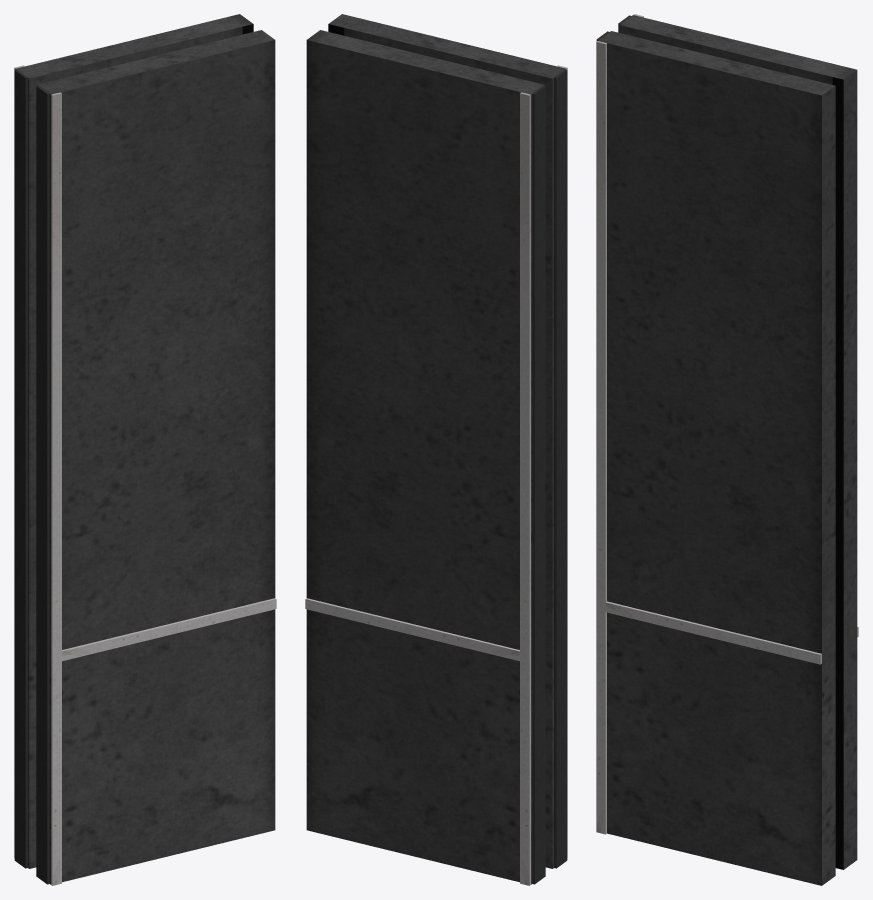
The model's file is elevatordoor.fbx.
The picture shows the model from 3 angles, left to right: view 1: azimuth 30°, elevation 25°; view 2: azimuth 150°, elevation 25°; view 3: azimuth 330°, elevation 25°; orthographic projection.
Visible parts, largest first — view 1: Scene_Root (×3); view 2: Scene_Root (×3); view 3: Scene_Root (×2).
Boxes of the visible parts, x1,y1,x2,y2 form: Scene_Root (×3): [14, 14, 276, 885]; Scene_Root (×3): [305, 14, 567, 885]; Scene_Root (×2): [596, 14, 858, 885].
Bounding box in the file's own units: 96 × 320 × 28.
